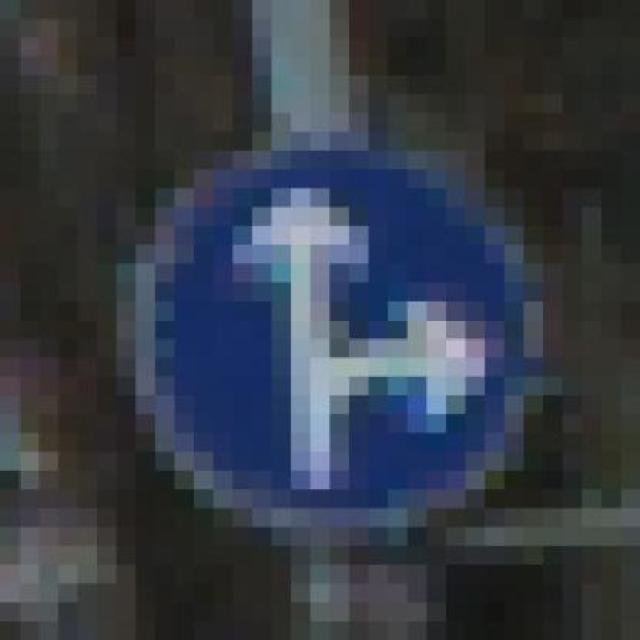Go Straight or Turn Right: (97, 112, 563, 546)
